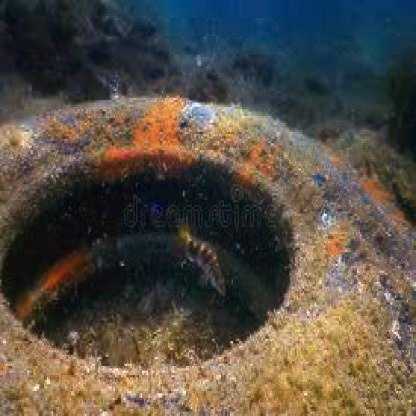tire: (14, 98, 410, 409)
